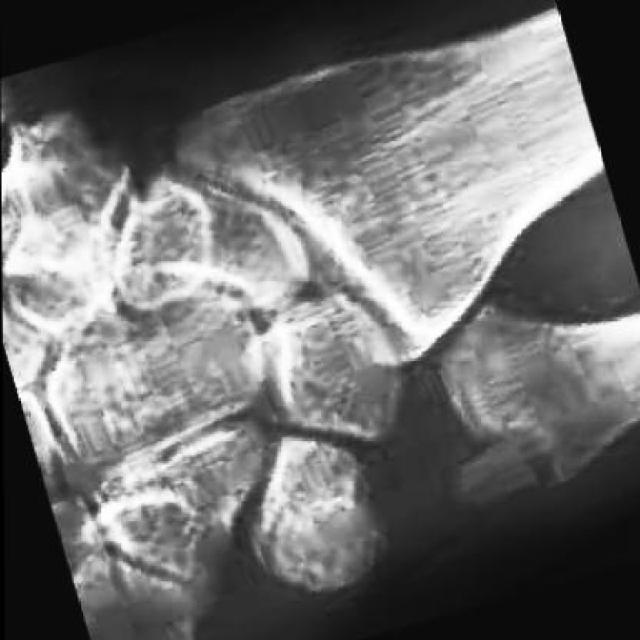Fracture: (434, 423, 560, 534)
